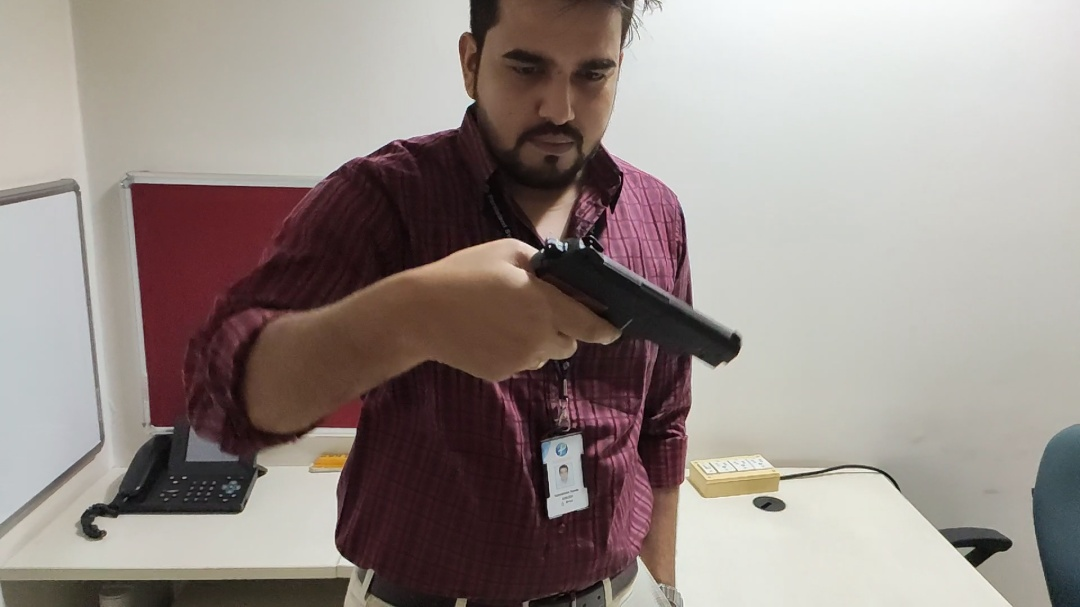gun: (487, 219, 764, 392)
